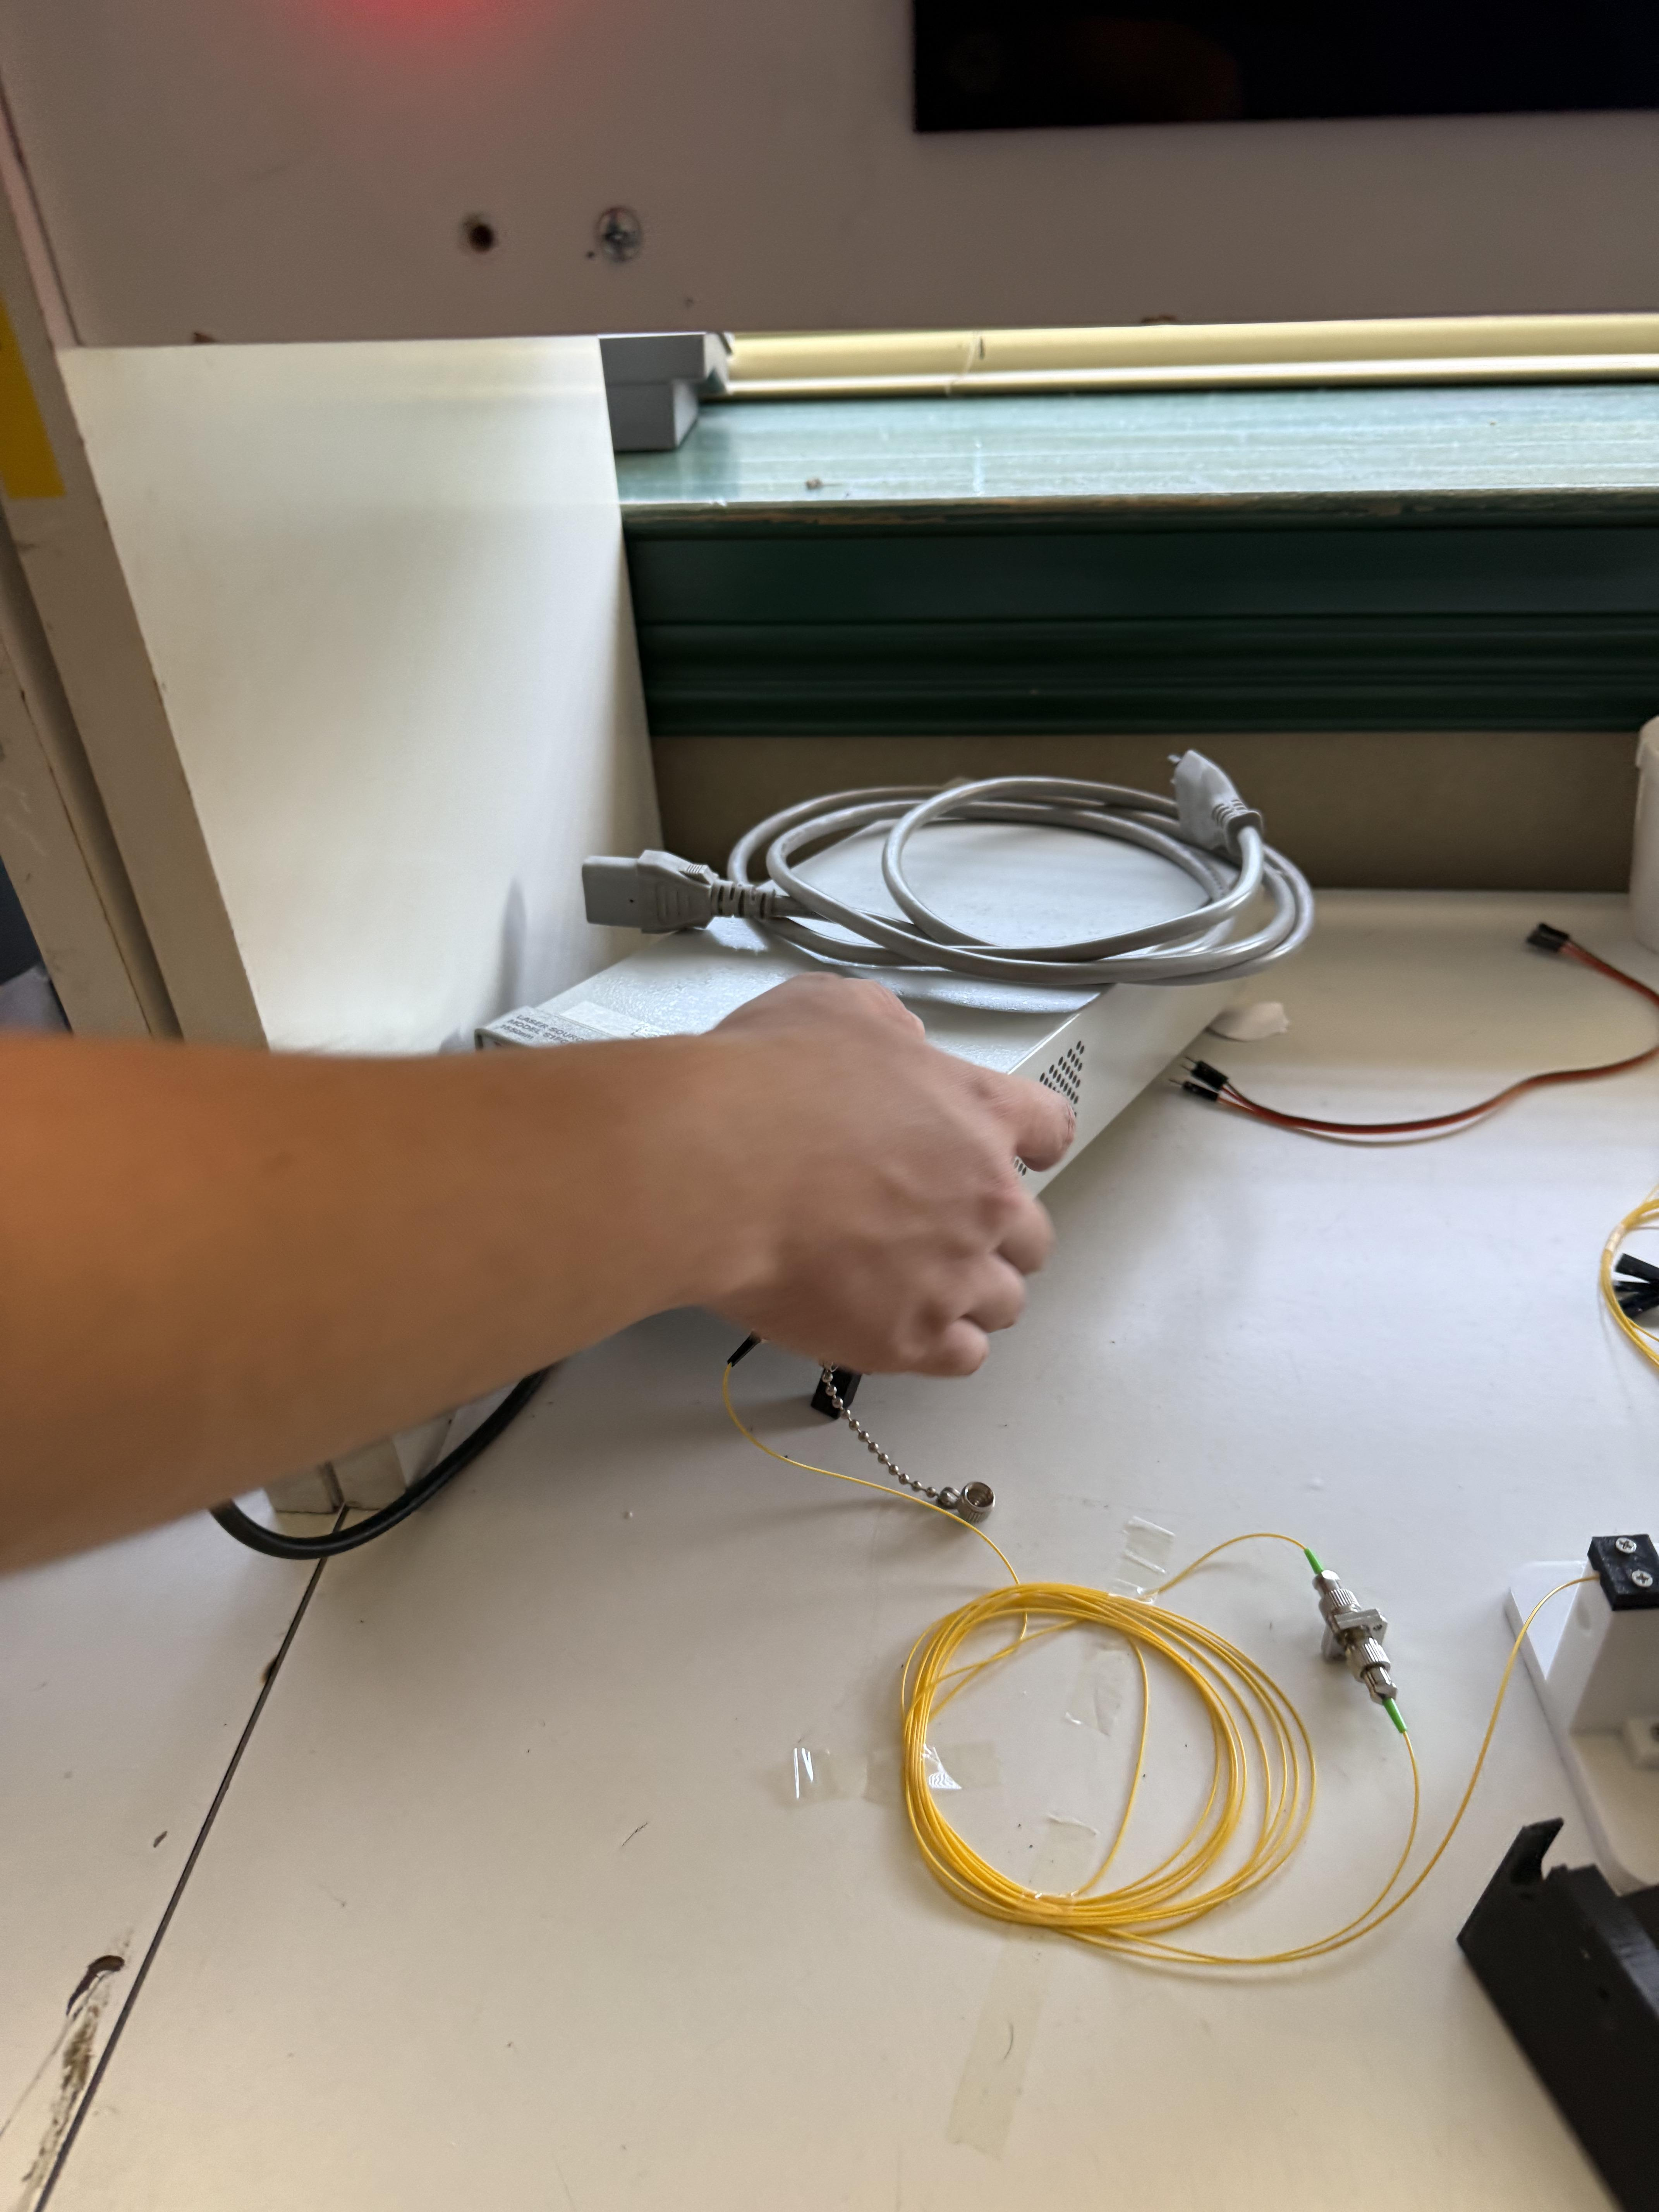fiber_cable: (829, 1406, 1506, 2067)
laser: (441, 678, 1359, 1428)
